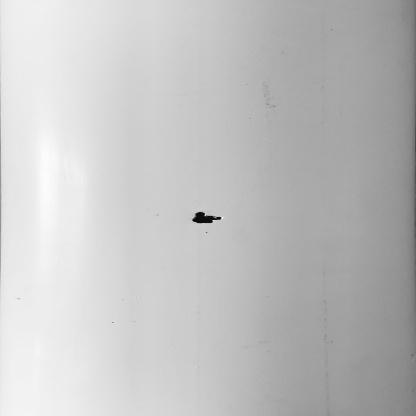kongdong: (184, 205, 236, 227)
